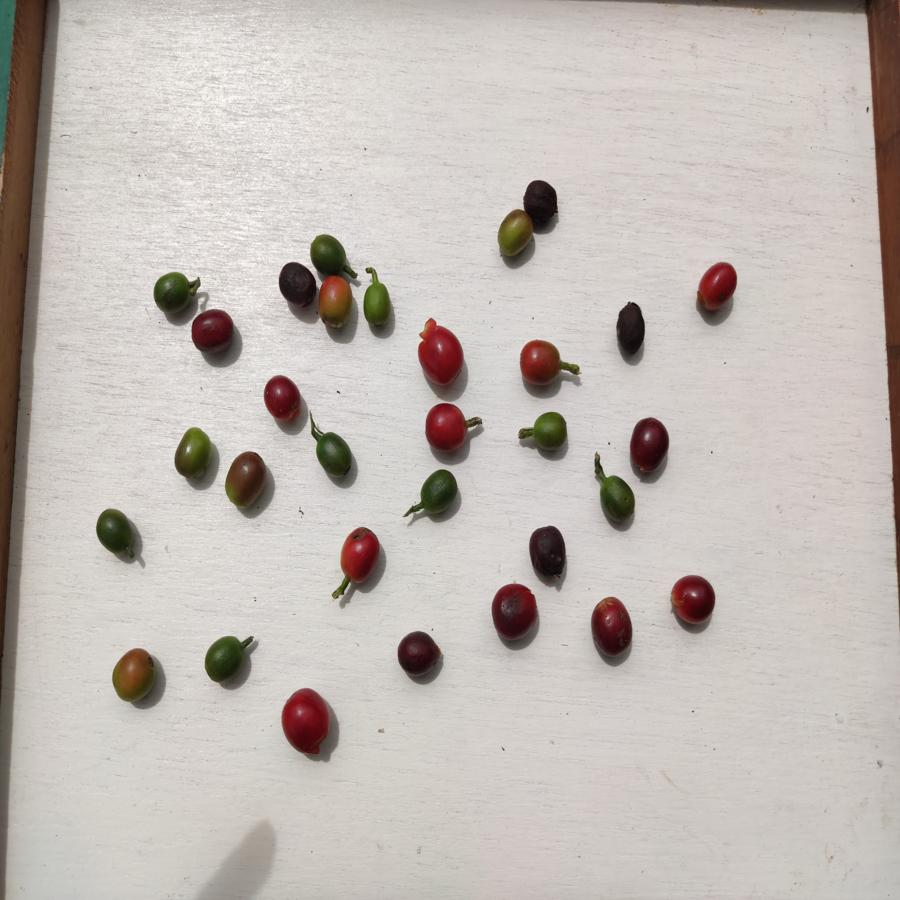Inmaduro: (91, 506, 137, 561), (313, 431, 357, 483), (201, 634, 245, 686), (150, 271, 196, 319), (420, 466, 459, 520), (597, 476, 639, 524), (306, 232, 350, 274), (531, 407, 569, 455)
Maduro: (278, 688, 337, 754), (415, 324, 467, 390), (337, 527, 384, 586), (425, 403, 471, 454), (516, 340, 563, 389), (696, 261, 739, 313), (264, 373, 301, 424)
Pinton: (111, 648, 158, 704), (223, 450, 266, 509), (318, 275, 356, 336), (174, 426, 214, 483), (498, 209, 534, 258)
Sobremaduro: (489, 583, 537, 643), (667, 574, 717, 628), (592, 595, 634, 657), (398, 629, 443, 681), (629, 417, 671, 472), (528, 525, 569, 581), (190, 308, 237, 355), (615, 301, 652, 356), (276, 262, 318, 308), (524, 178, 559, 229)
